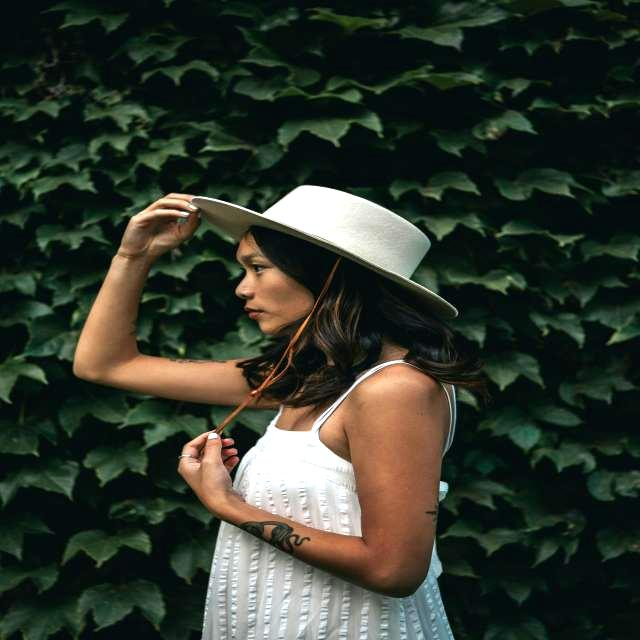no_hard_hat: (190, 186, 458, 318)
person: (74, 194, 462, 640)
